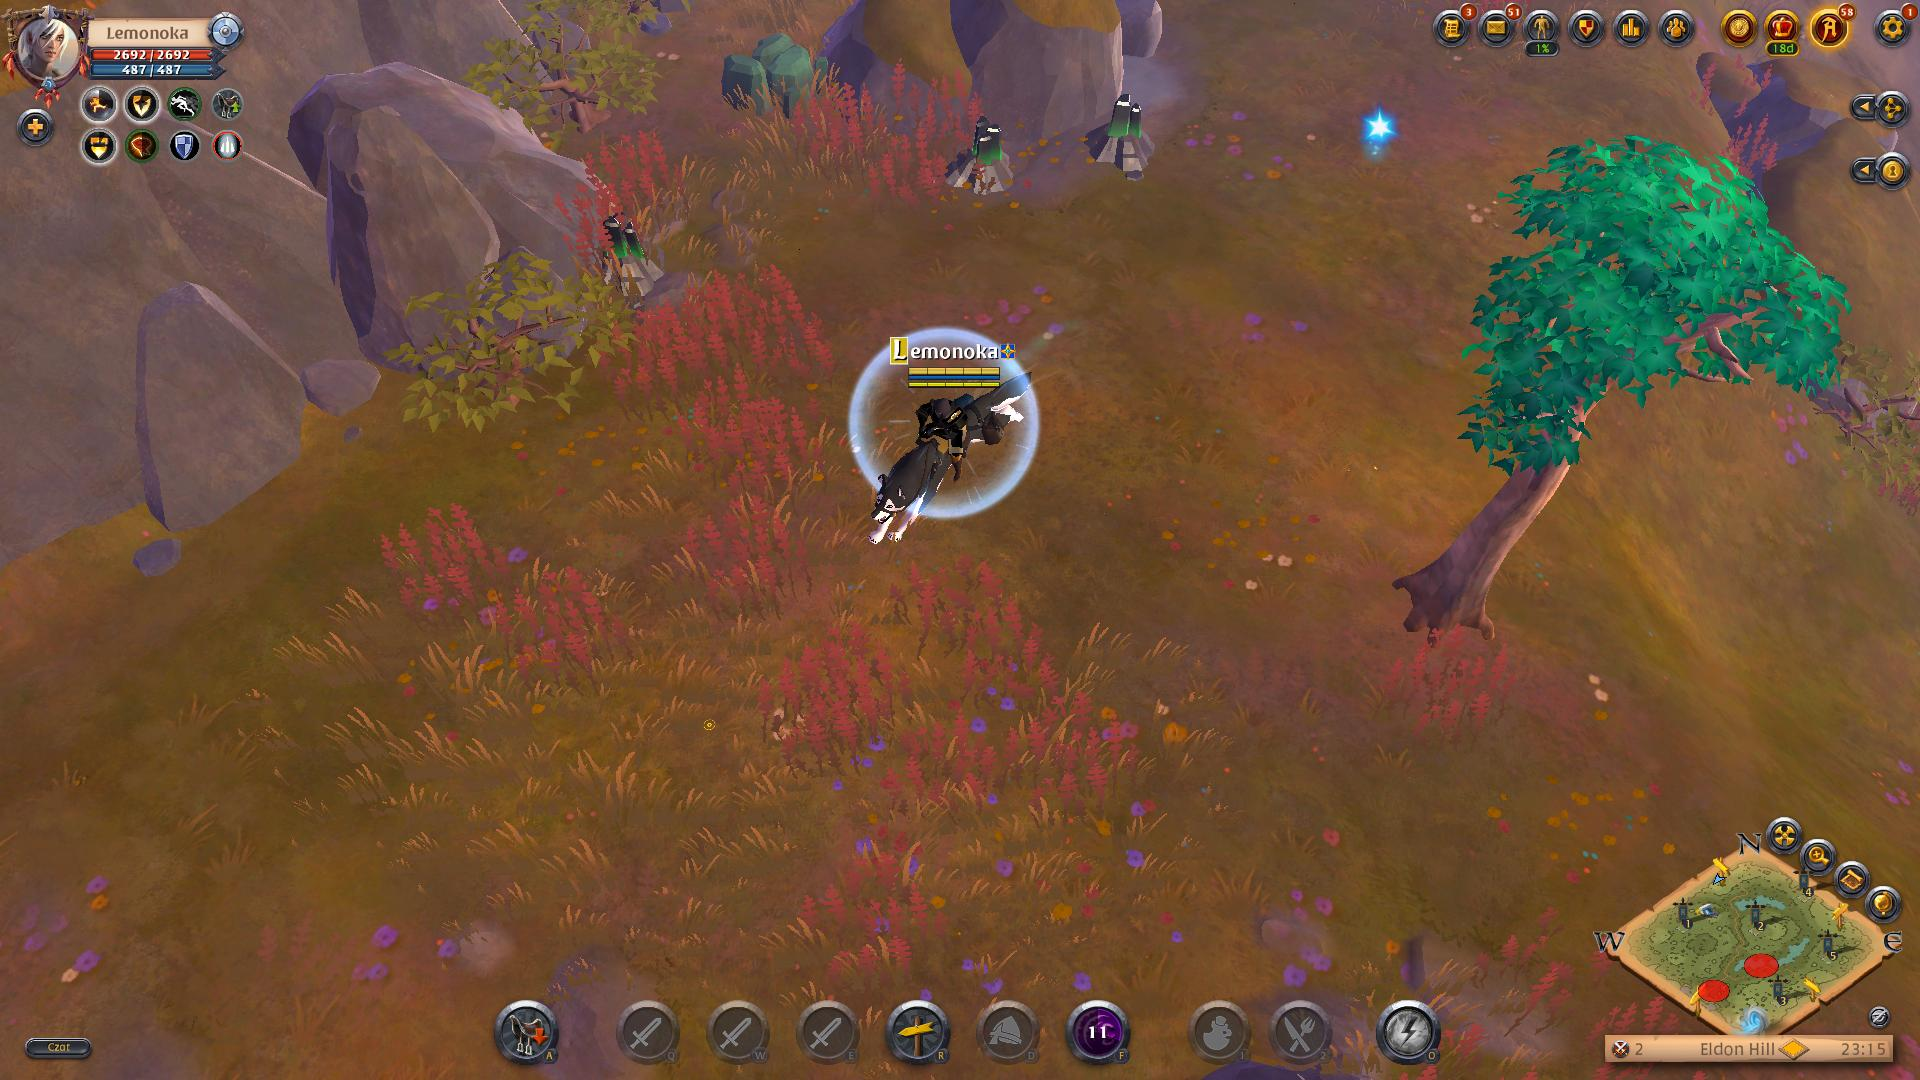ore tier 3: (1079, 90, 1158, 183), (945, 112, 1018, 200)
rock tier 3: (715, 25, 855, 133)
wood tier 3: (1468, 132, 1855, 472)
